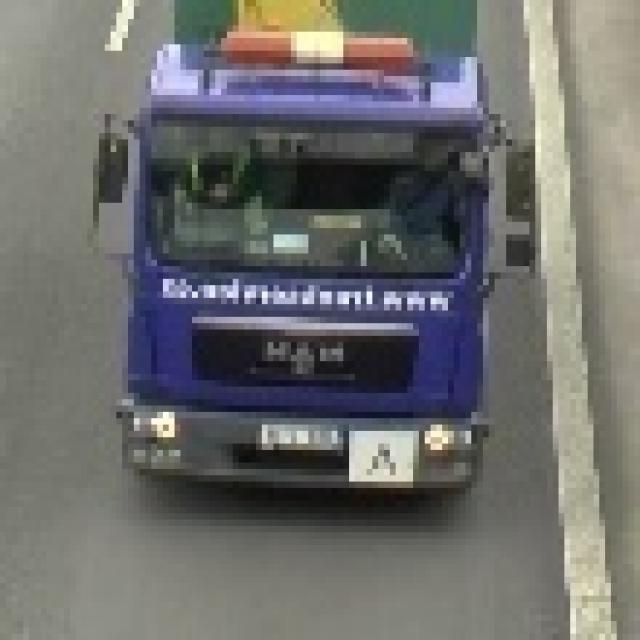truck: (88, 0, 536, 507)
